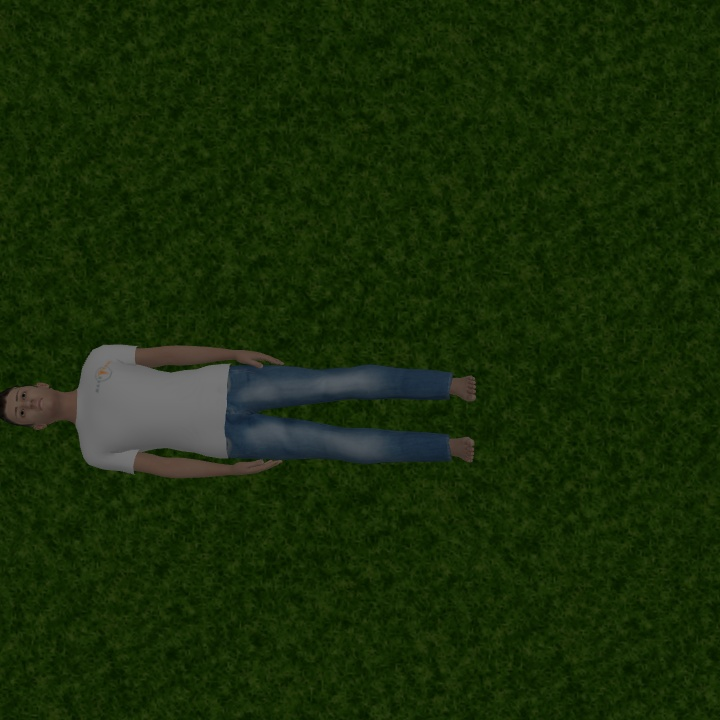victim: (1, 340, 479, 479)
